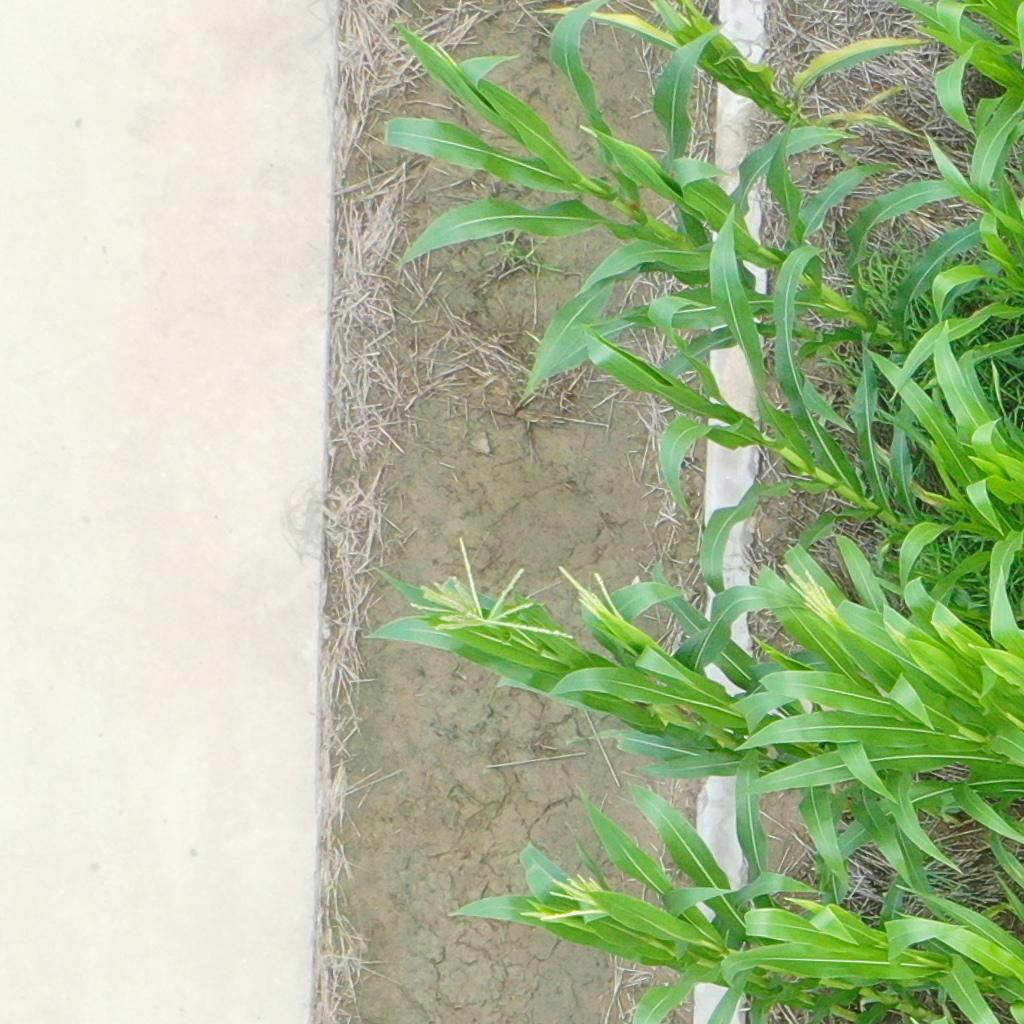Tassel: (408, 533, 574, 646), (515, 874, 614, 927), (556, 559, 626, 628), (778, 559, 844, 627), (421, 37, 464, 71), (883, 614, 911, 646), (576, 122, 602, 141)
